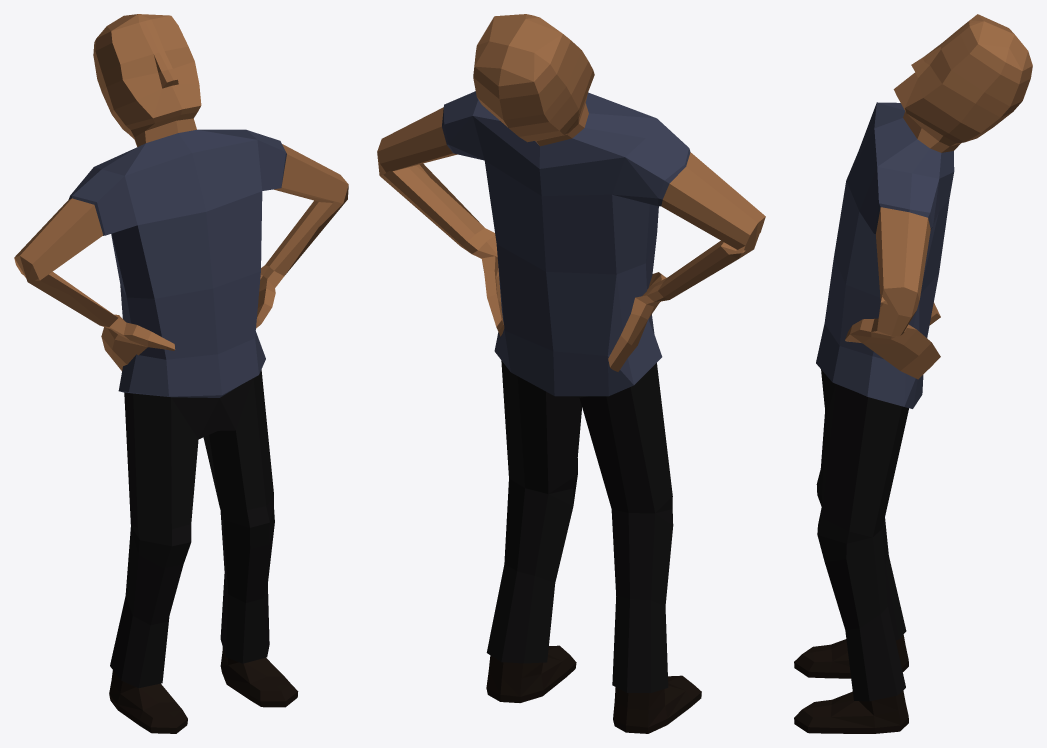
Rendered from Male_LookingUp.obj.
3 views of the same model, side by side, from view 1: azimuth 30°, elevation 25°; view 2: azimuth 150°, elevation 25°; view 3: azimuth 270°, elevation 25° (orthographic). The views are drawn at different scales.
Parts seen in each view (by area): view 1: Looking_Up_Human_CylinderMesh.000; view 2: Looking_Up_Human_CylinderMesh.000; view 3: Looking_Up_Human_CylinderMesh.000.
Boxes of the visible parts, <box> form: Looking_Up_Human_CylinderMesh.000: <box>14,14,348,733</box>; Looking_Up_Human_CylinderMesh.000: <box>377,14,765,733</box>; Looking_Up_Human_CylinderMesh.000: <box>794,14,1032,733</box>.
Size of the model in its own units: 1.99 by 3.69 by 1.18.
